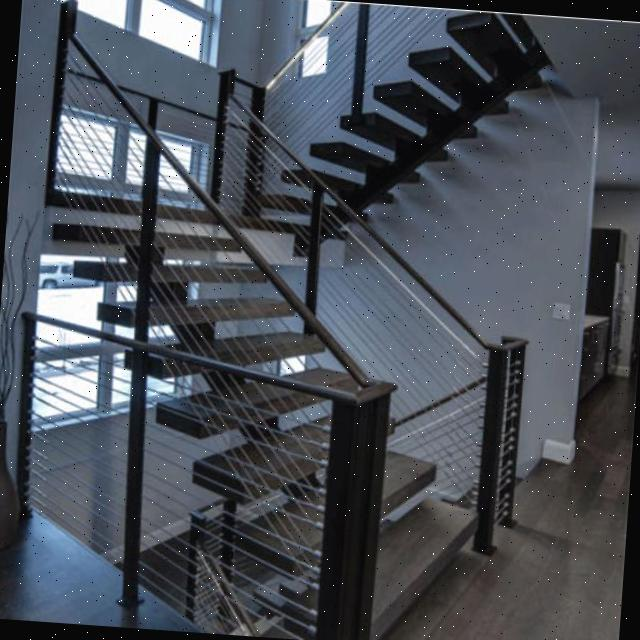stairs: (18, 0, 565, 640)
